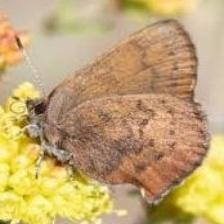butterfly: (27, 19, 211, 204)
